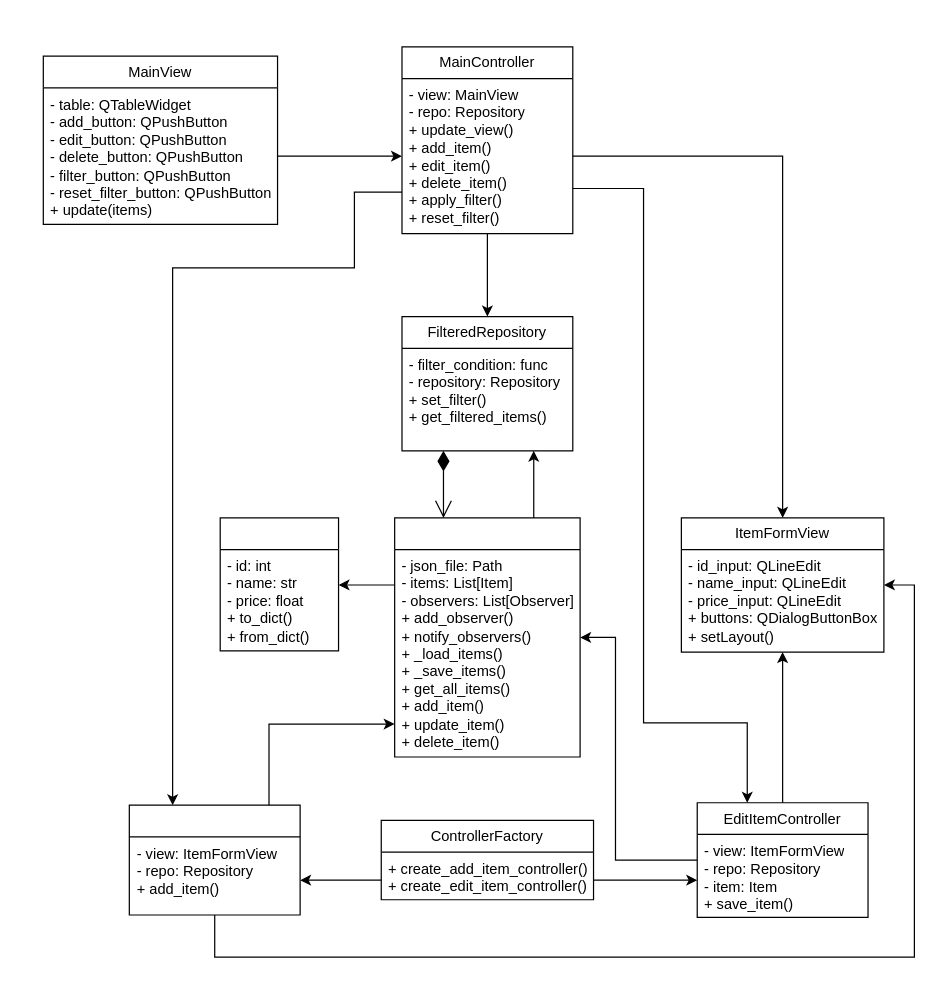
This 946x988 diagram has some shape labels left out. The shapes that lost their labels are listed below. From the top down, each one's box as (x1, y1, x2, y2) in pixels, then its label:
(219, 517, 339, 651): Item
(393, 517, 580, 757): Repository
(128, 804, 300, 915): AddItemController
